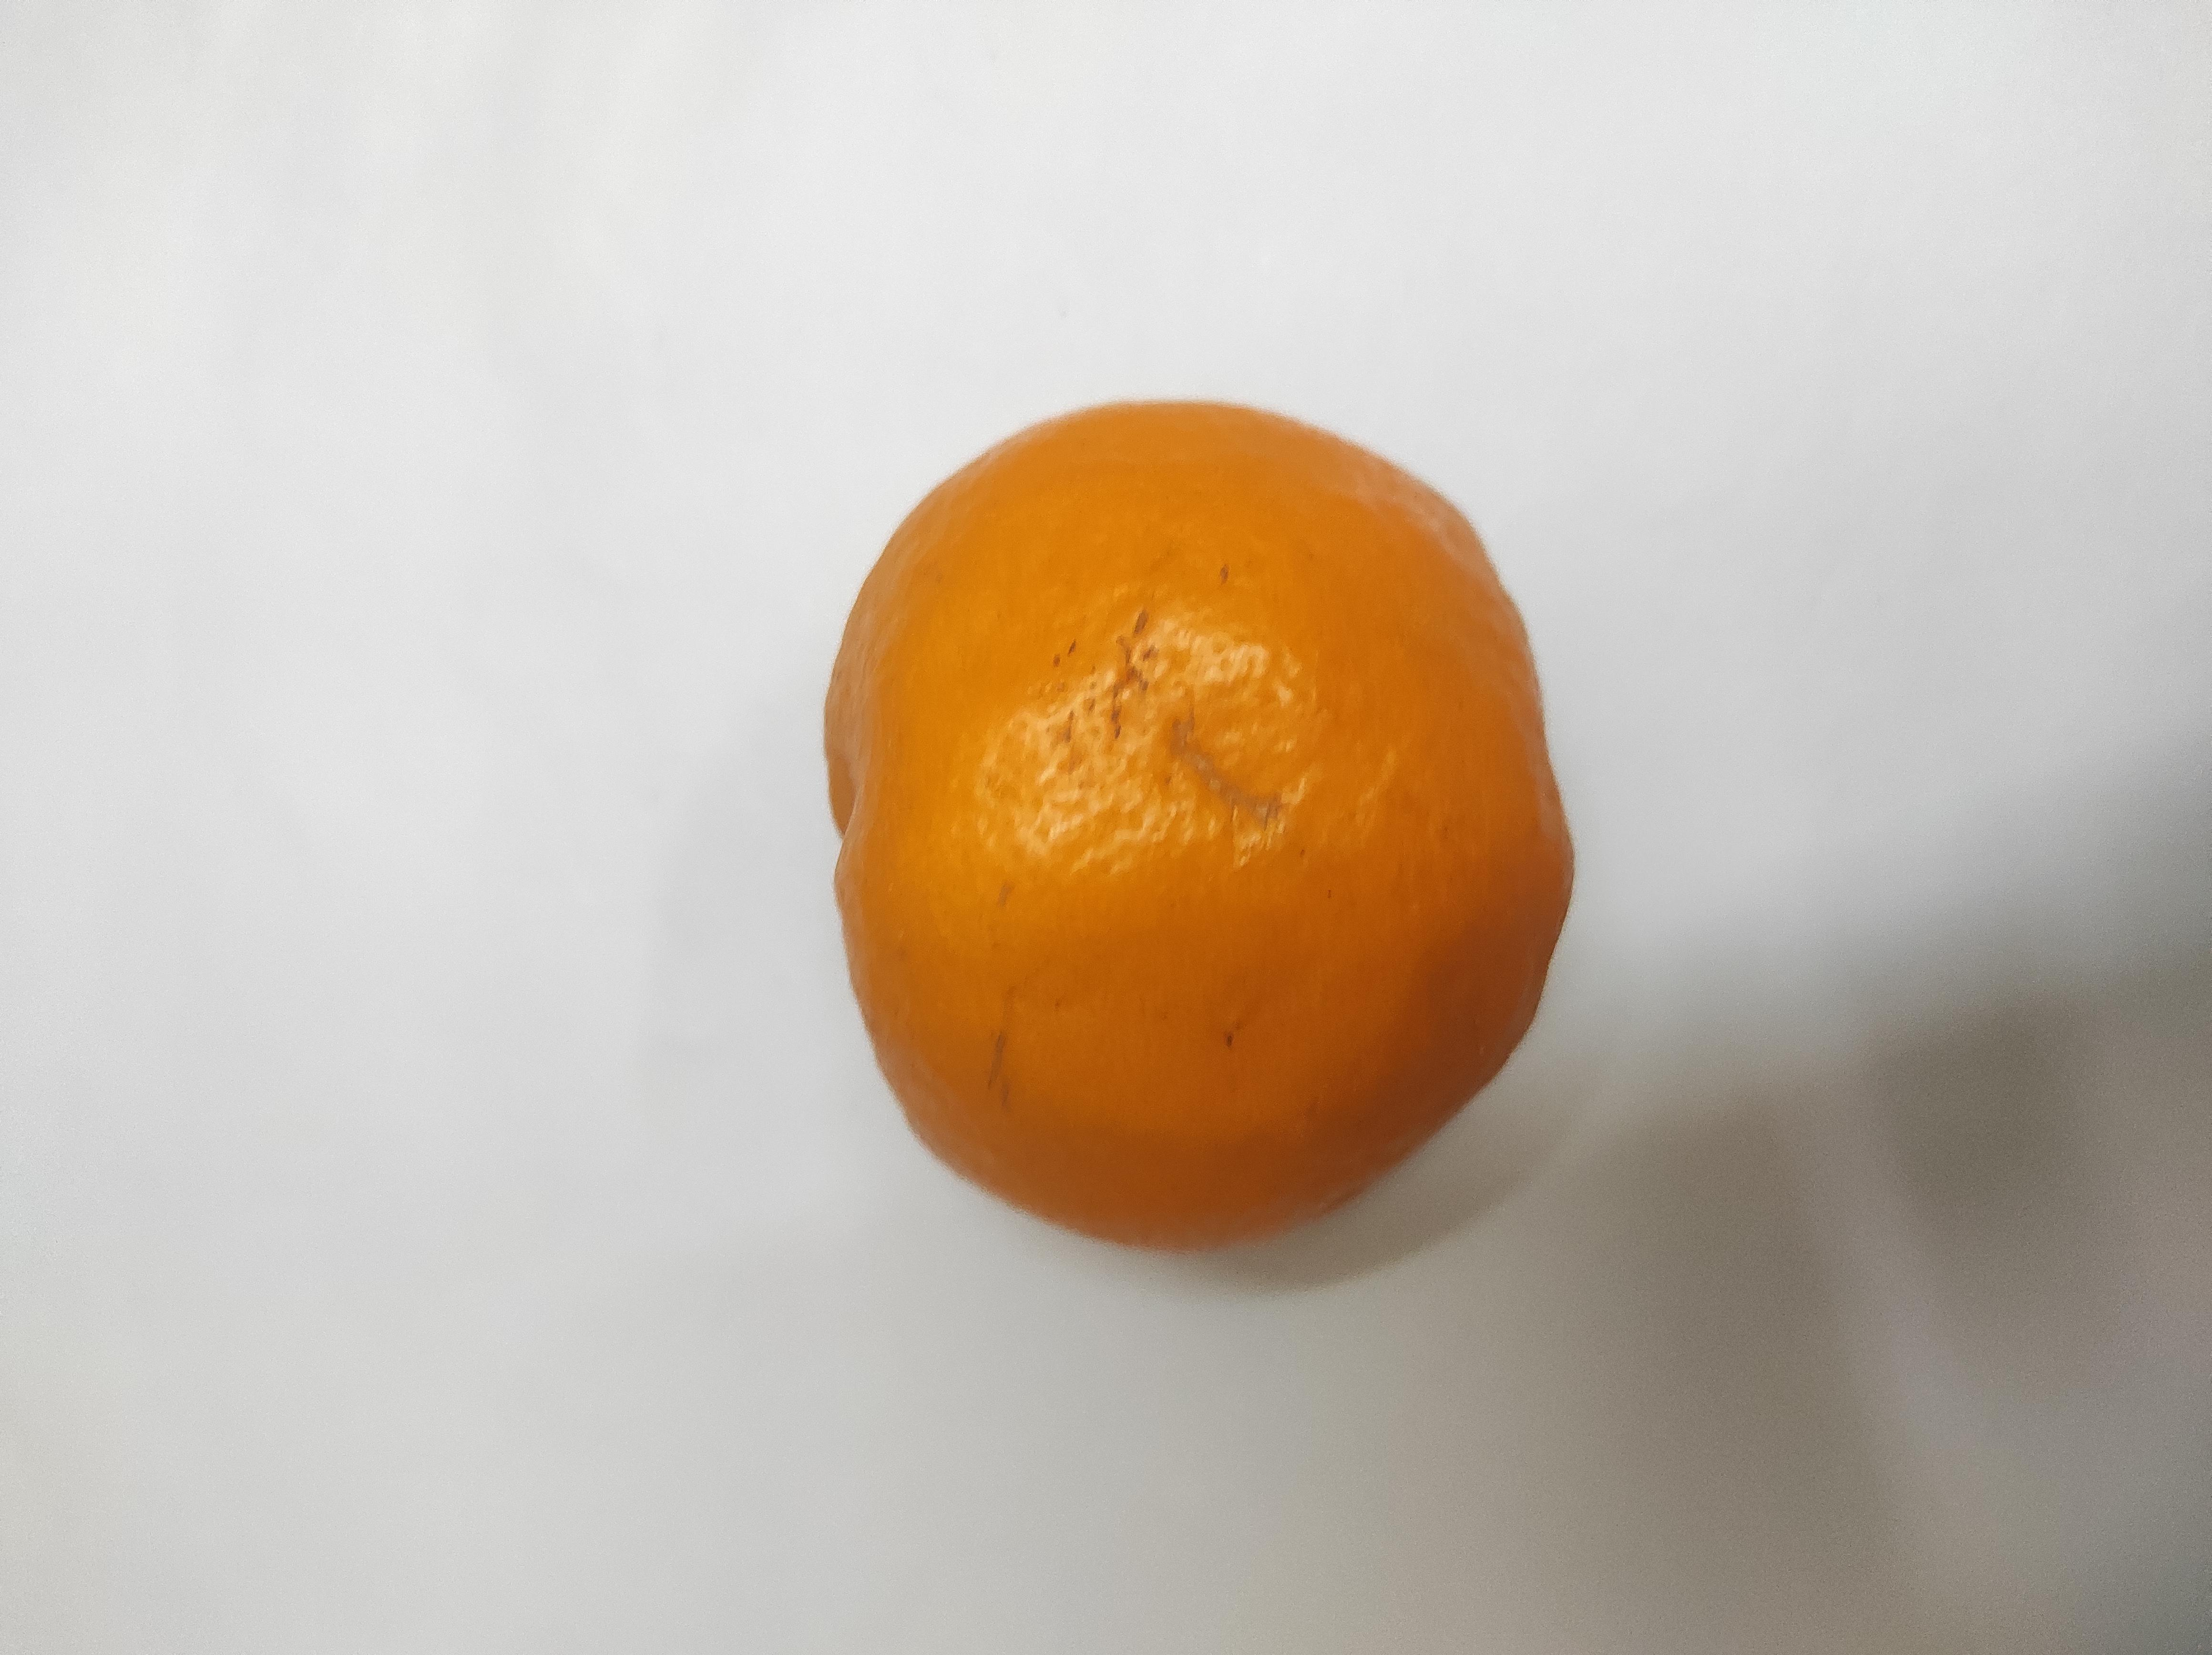Ripe: (829, 396, 1574, 1253)
